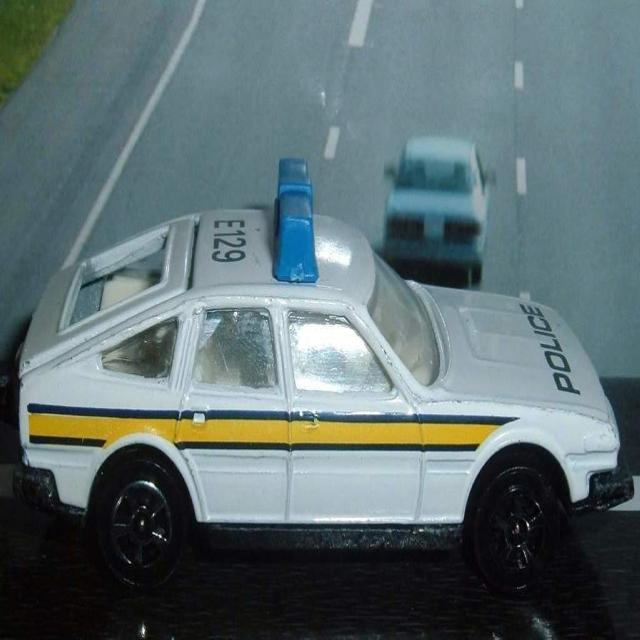other: (12, 149, 636, 639), (373, 122, 498, 308)
